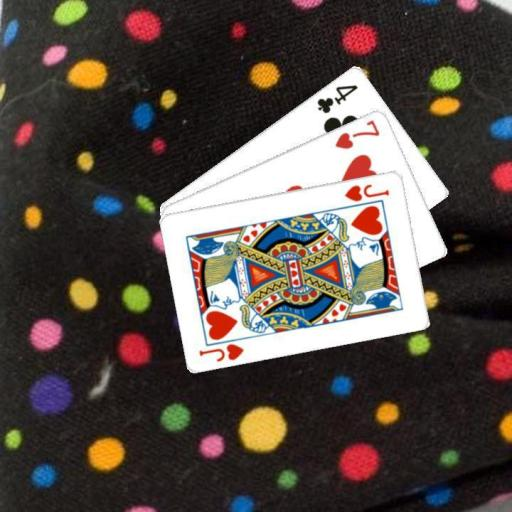card-corner: (331, 116, 382, 151), (314, 81, 360, 115), (341, 180, 391, 203), (196, 340, 246, 363)
